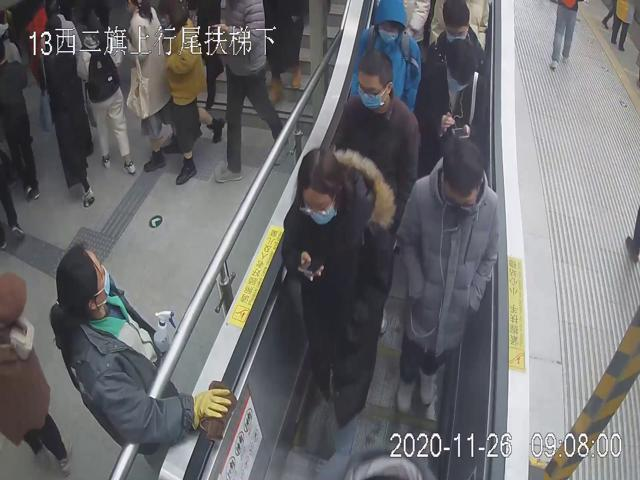person: (48, 242, 231, 452), (281, 144, 395, 430), (395, 136, 501, 419), (328, 48, 421, 219), (417, 40, 492, 176), (351, 0, 420, 120)
